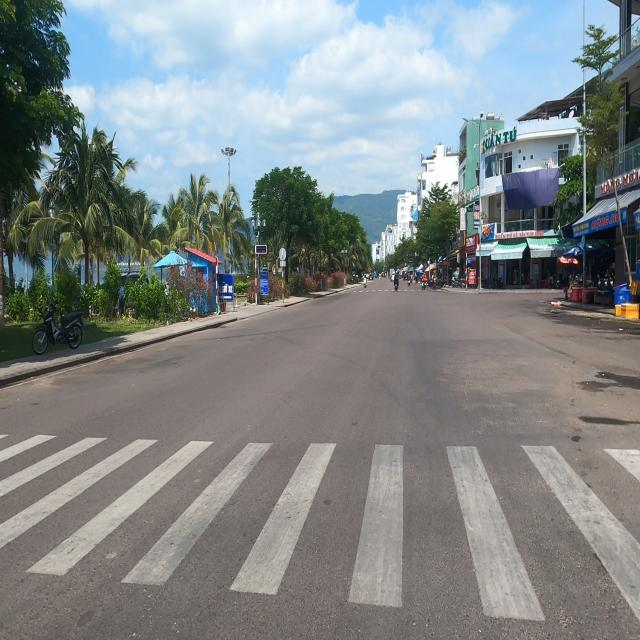walk-crossing: (0, 428, 640, 631)
